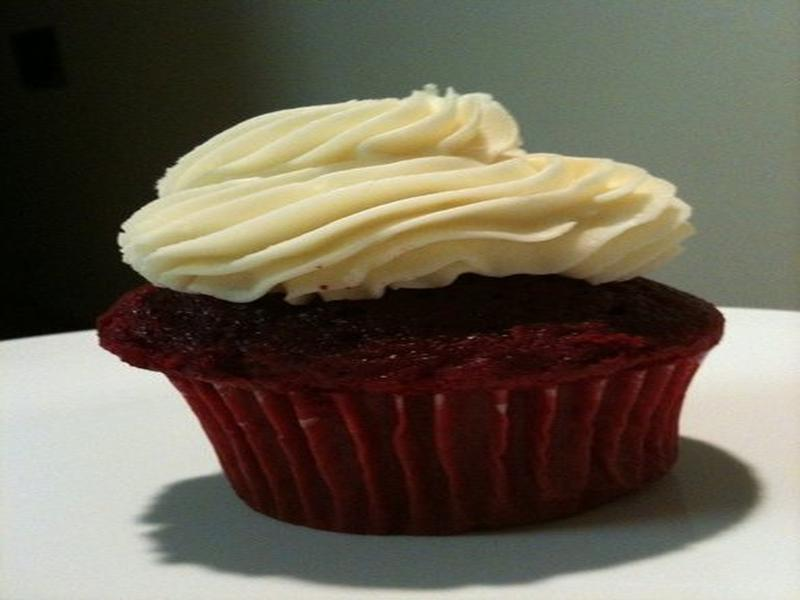cup_cake: (85, 81, 745, 528)
